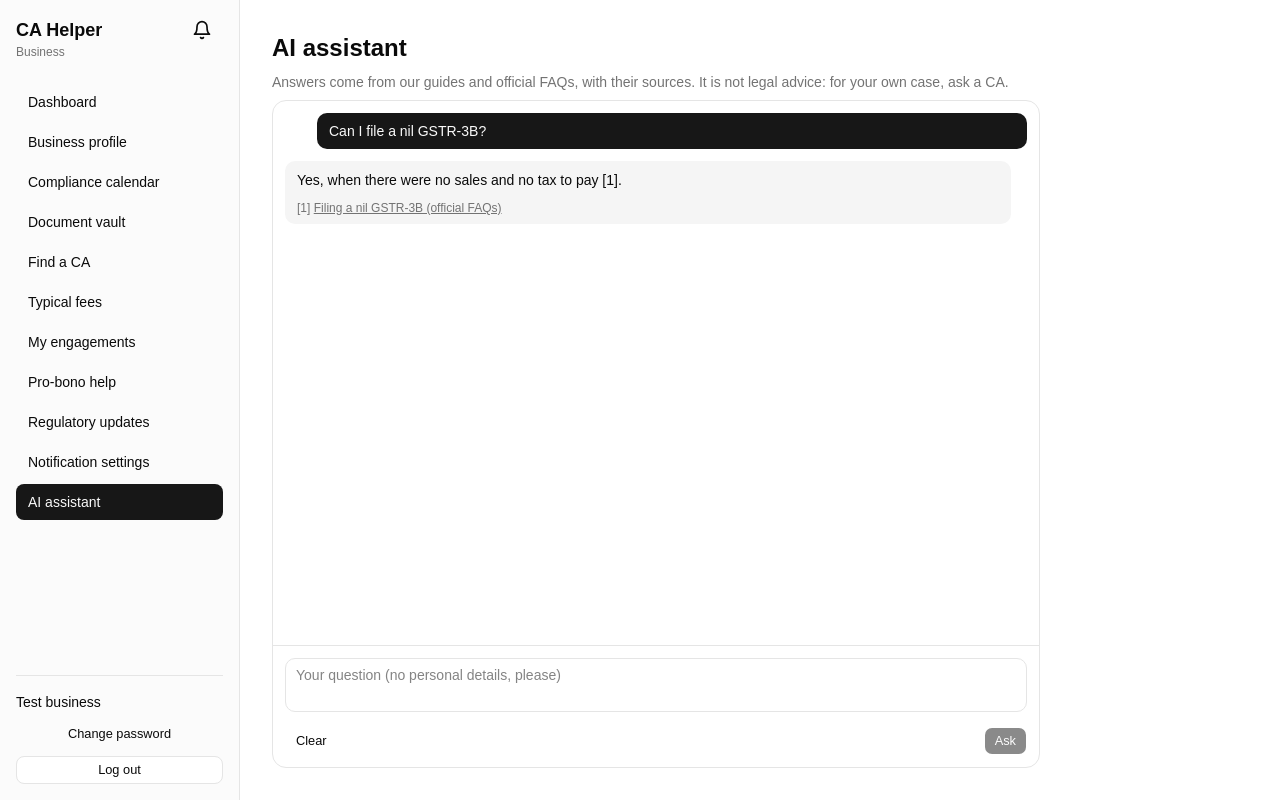
Test: AI assistant page › clears the conversation
Click the button "Clear": (311, 741) [285,727,338,755]
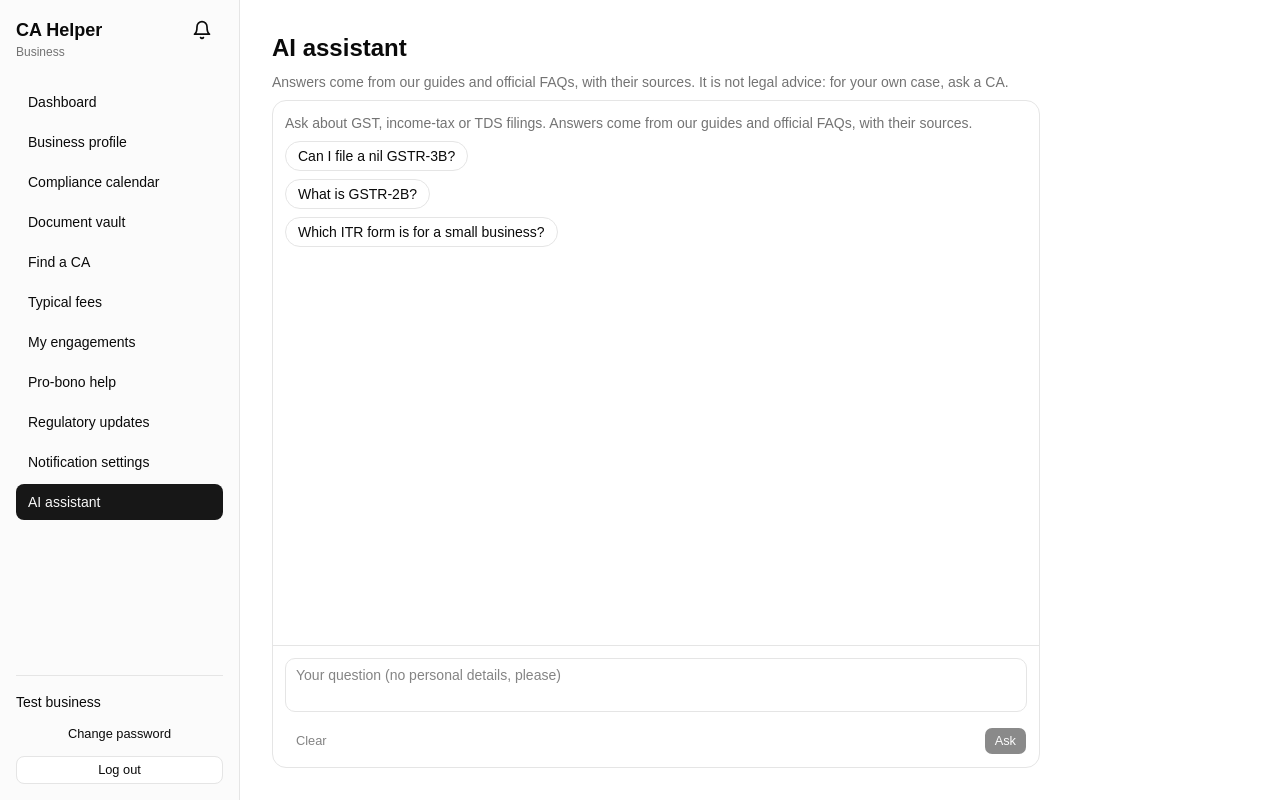
expect the button "What is GSTR-2B?" is shown: met, box [285,179,430,209]
